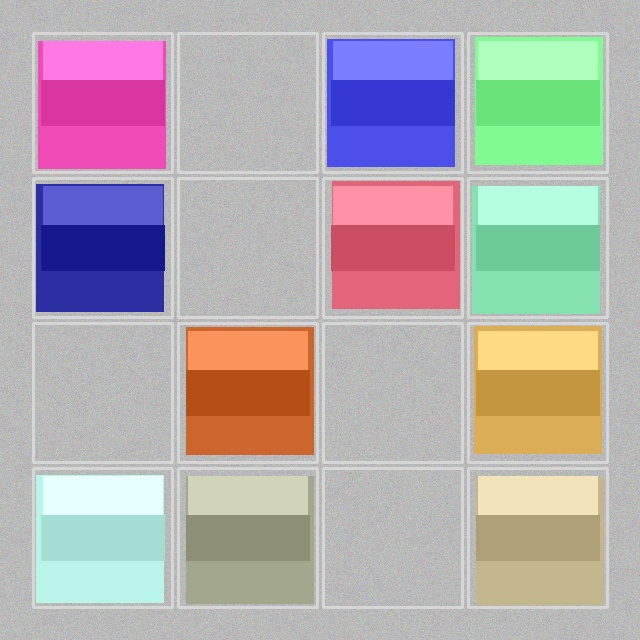space-empty: (180, 35, 315, 170), (180, 180, 315, 315), (35, 325, 170, 460), (325, 325, 460, 460), (325, 470, 460, 605)
space-occupied: (35, 35, 170, 170), (325, 35, 460, 170), (470, 35, 605, 170), (35, 180, 170, 315), (325, 180, 460, 315), (470, 180, 605, 315), (180, 325, 315, 460), (470, 325, 605, 460), (35, 470, 170, 605), (180, 470, 315, 605), (470, 470, 605, 605)
